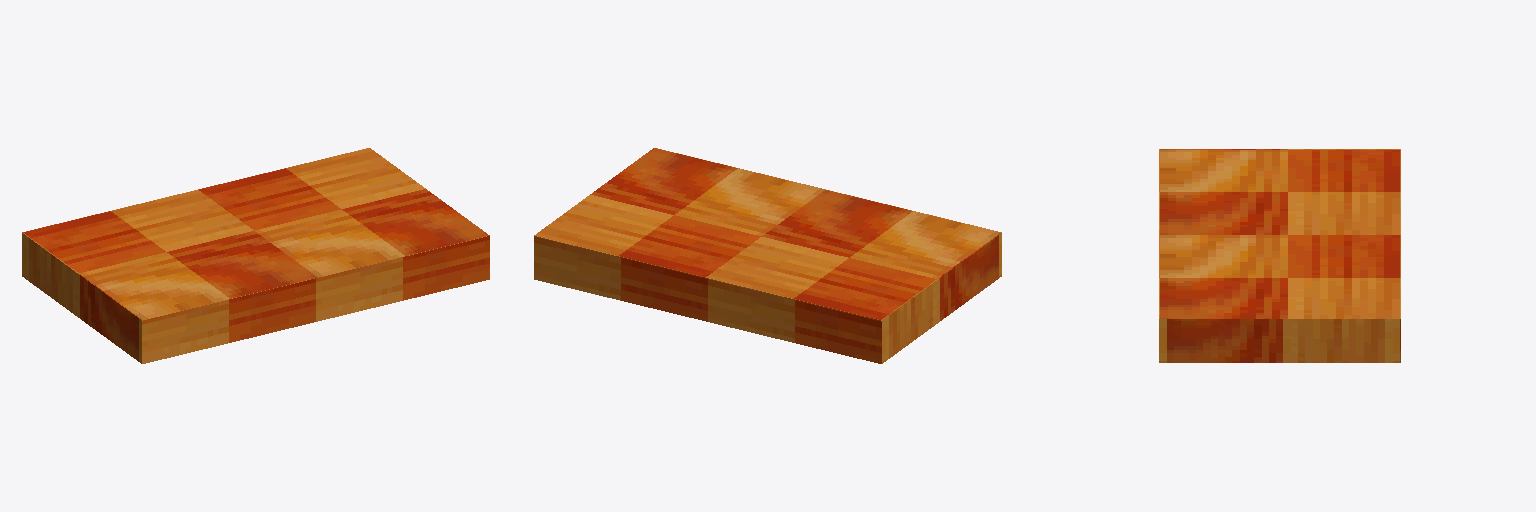
3 renders of one model, left to right at view 1: azimuth 30°, elevation 25°; view 2: azimuth 150°, elevation 25°; view 3: azimuth 270°, elevation 25°, orthographic.
Parts seen in each view (by area): view 1: world_root; view 2: world_root; view 3: world_root.
Boxes of the visible parts, x1=… form: world_root: x1=22, y1=148, x2=489, y2=363; world_root: x1=534, y1=148, x2=1001, y2=363; world_root: x1=1159, y1=149, x2=1400, y2=362.
Bounding box in the file's own units: 78.12 × 9.38 × 46.88.
1 materials, 1 textured.